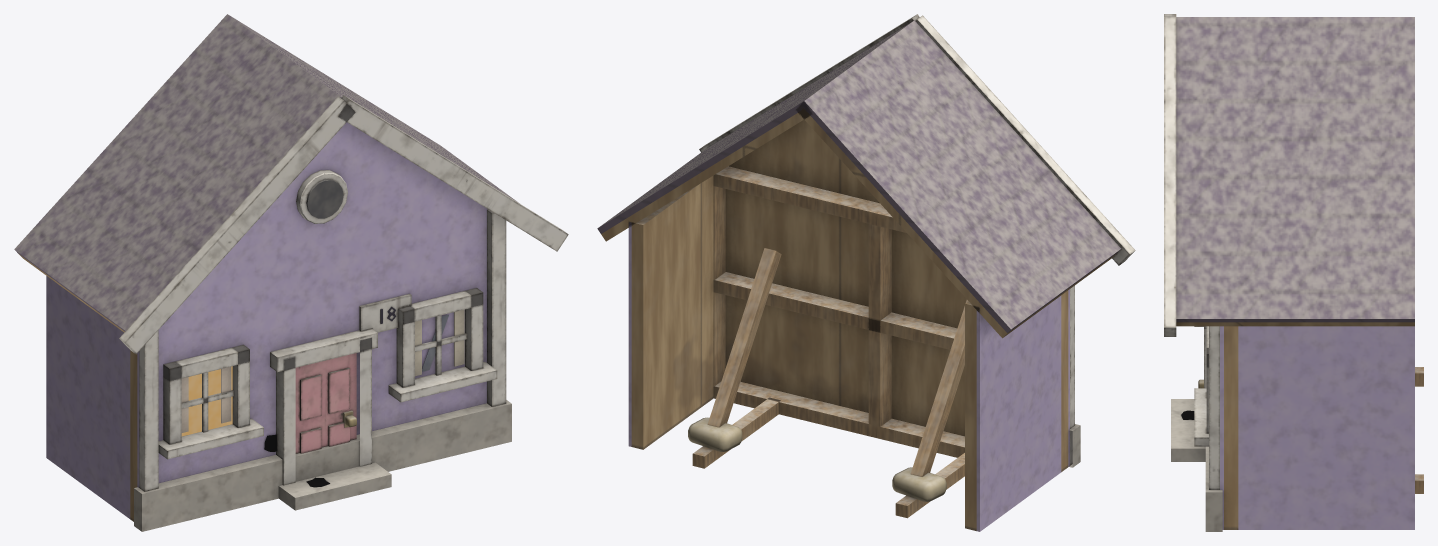
File: house_tiny.fbx
The picture shows the model from 3 angles, left to right: view 1: azimuth 30°, elevation 25°; view 2: azimuth 150°, elevation 25°; view 3: azimuth 270°, elevation 25°; orthographic projection. The views are drawn at different scales.
Parts seen in each view (by area): view 1: Body, Glow; view 2: Body; view 3: Body.
Boxes of the visible parts, bbox=[...] form: Body: bbox=[14, 14, 568, 531]; Glow: bbox=[181, 366, 232, 436]; Body: bbox=[597, 14, 1135, 531]; Body: bbox=[1164, 14, 1423, 531].
Size of the model in its own units: 11.04 by 9.54 by 5.32.
1 material, 1 textured.
